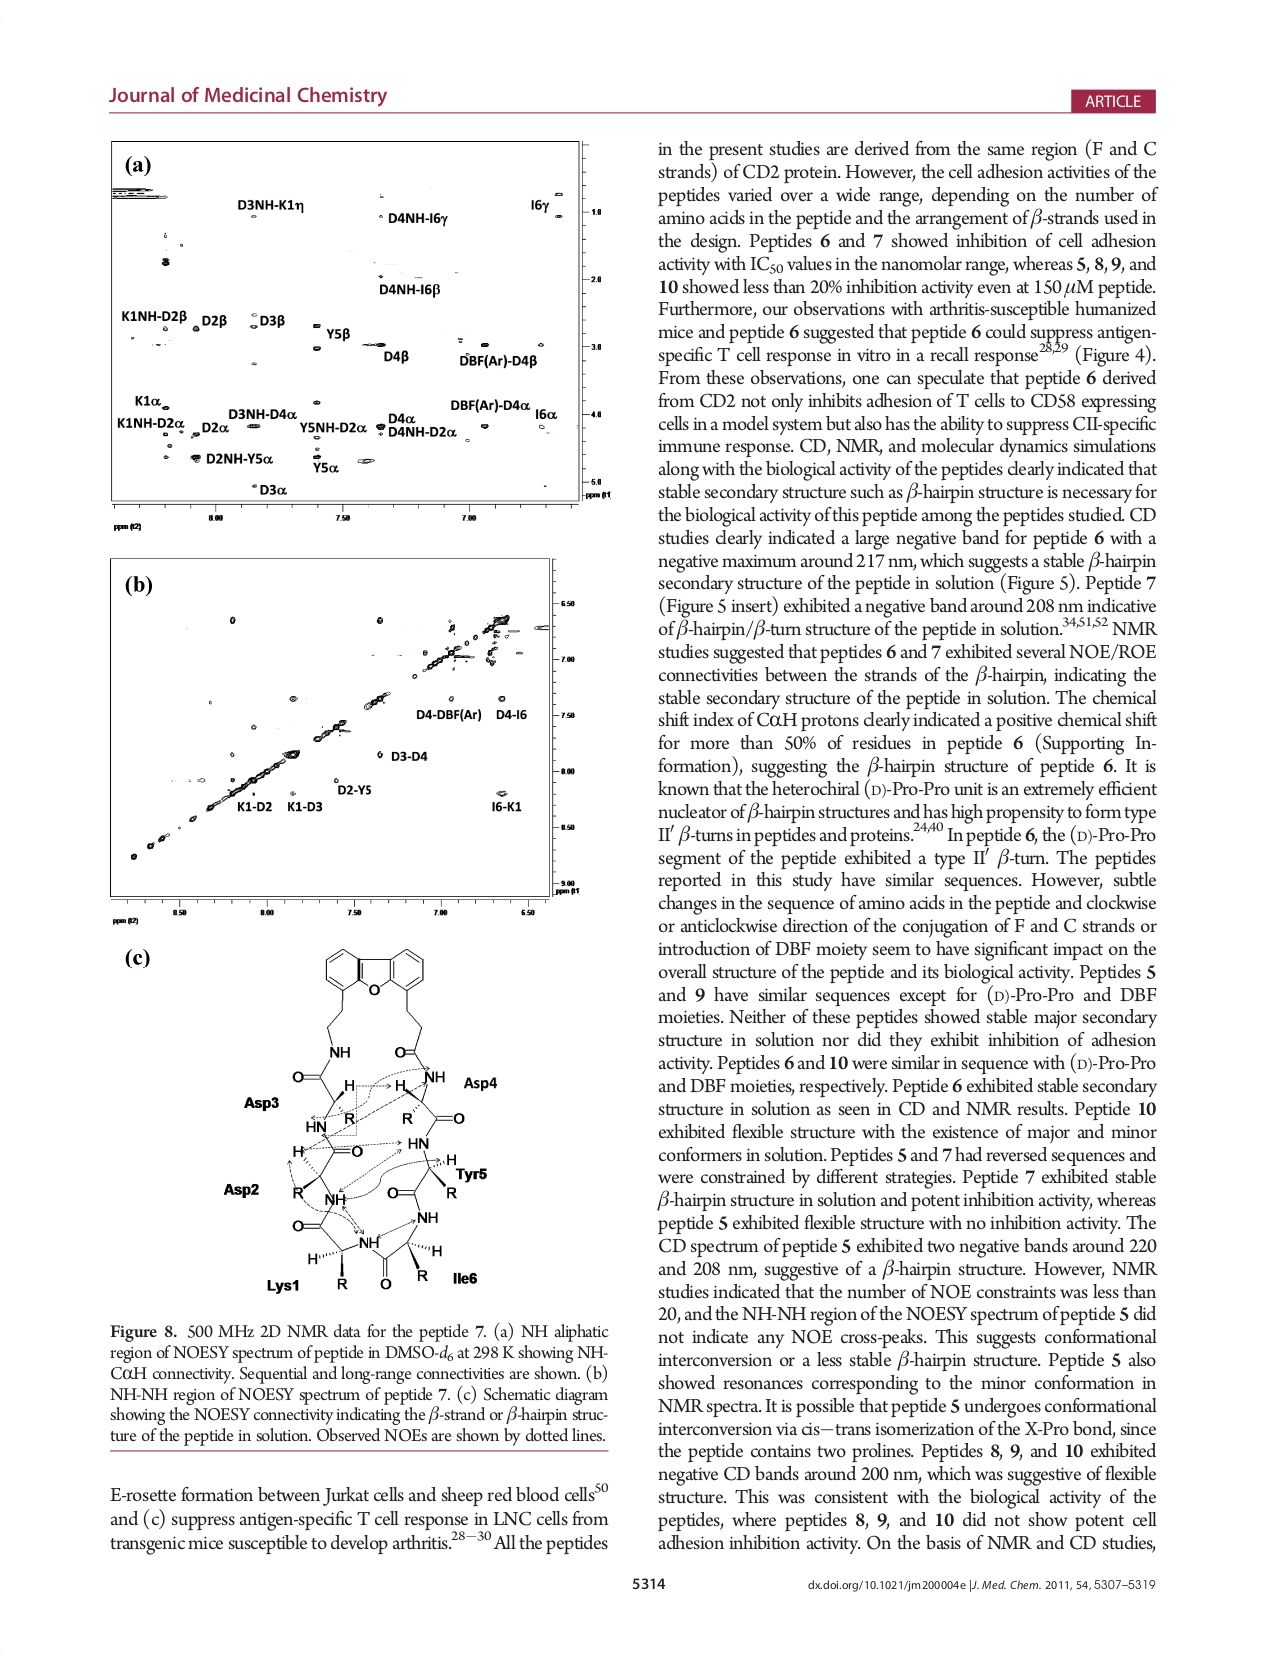exist_molecular: (285, 944, 468, 1290)
